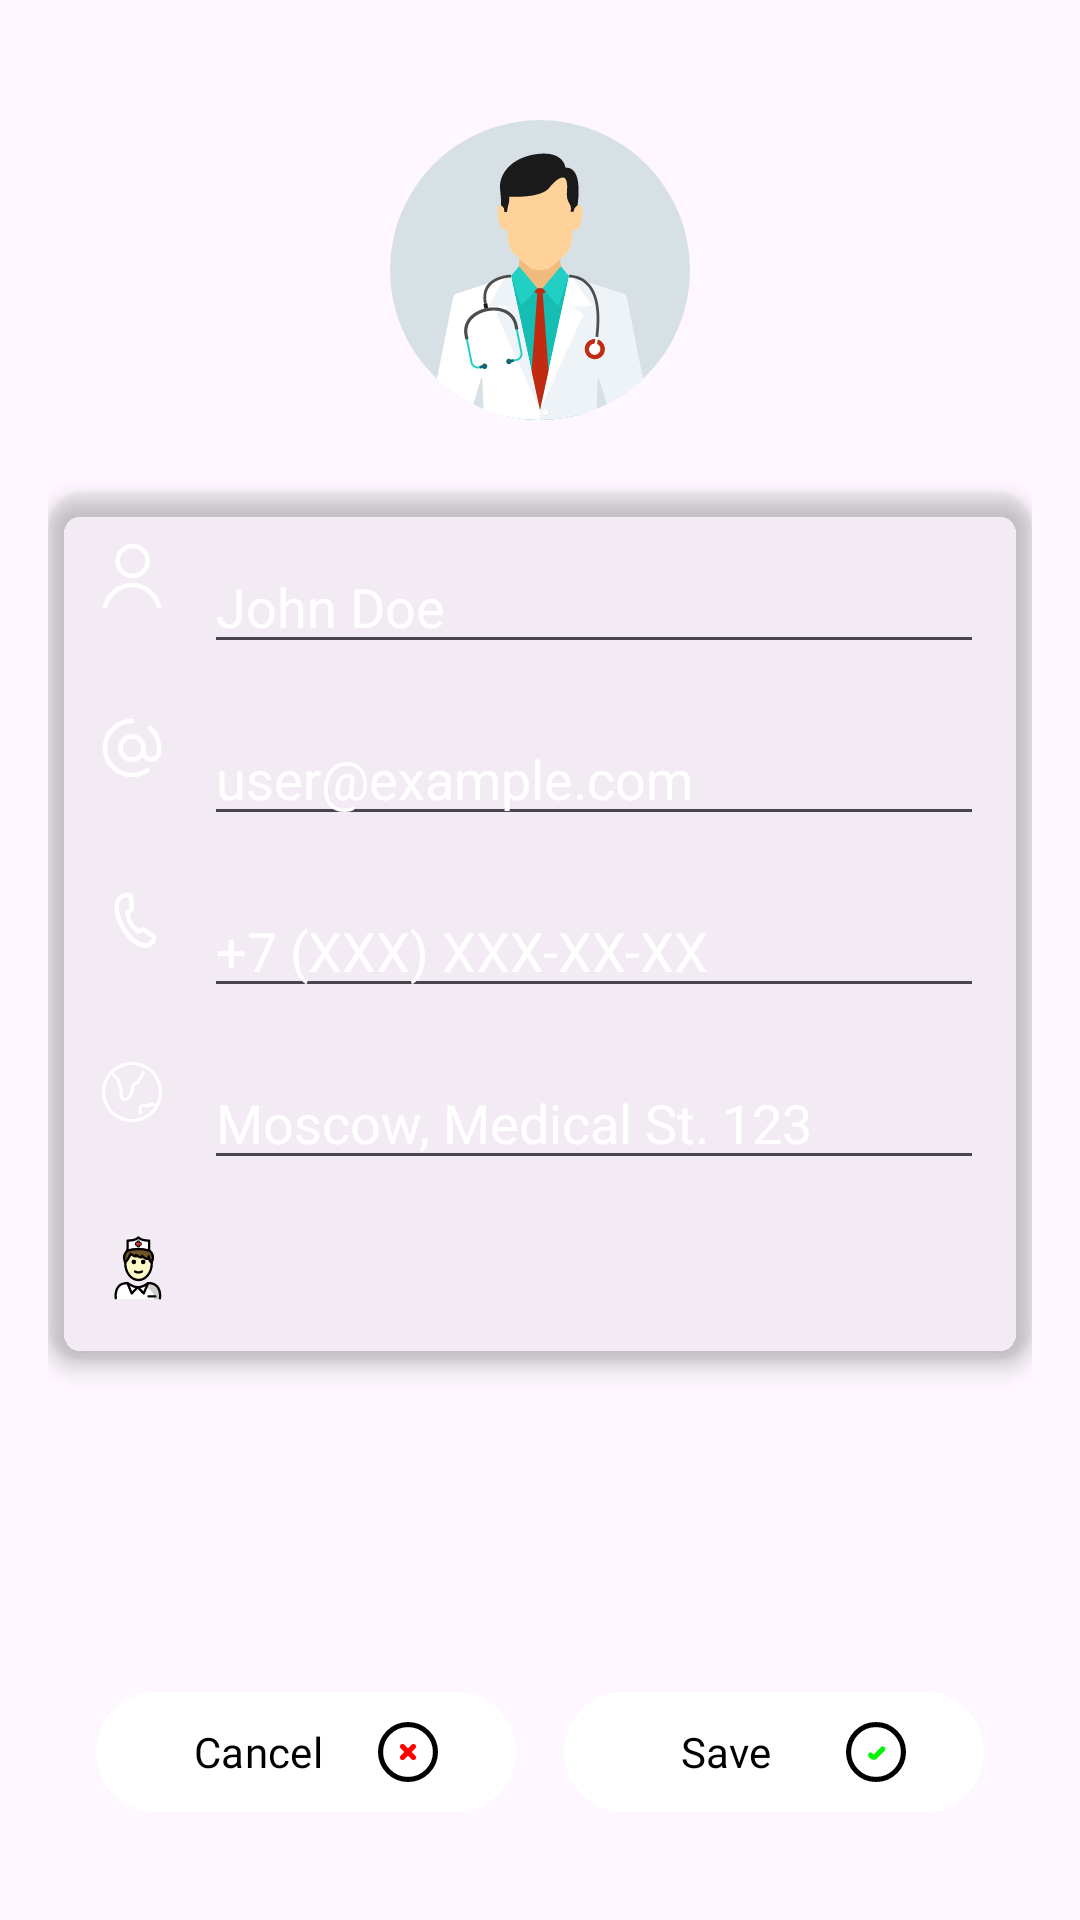

Icon click points for this 1080w x 1920h phone screenshot, format [x,y]:
doctor: [540,270]
profession: [138,1268]
